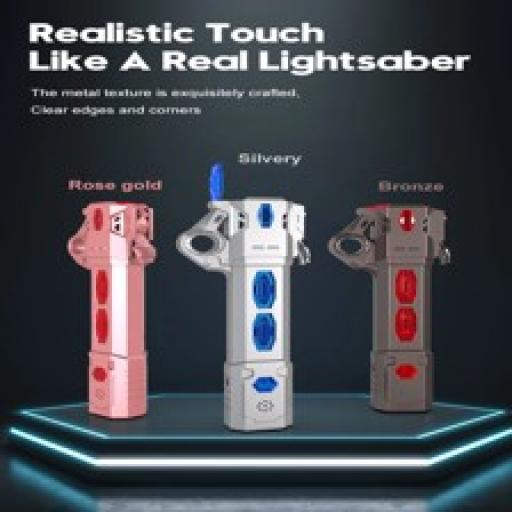lightsaber: (179, 175, 312, 433), (330, 199, 453, 417), (61, 193, 158, 420)
